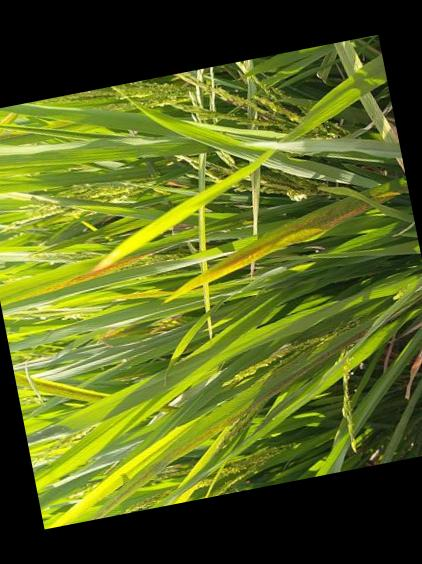Leaf Streak: (82, 328, 368, 522), (164, 196, 373, 301), (0, 250, 155, 309), (31, 378, 105, 403), (361, 178, 409, 204), (0, 113, 17, 125)
